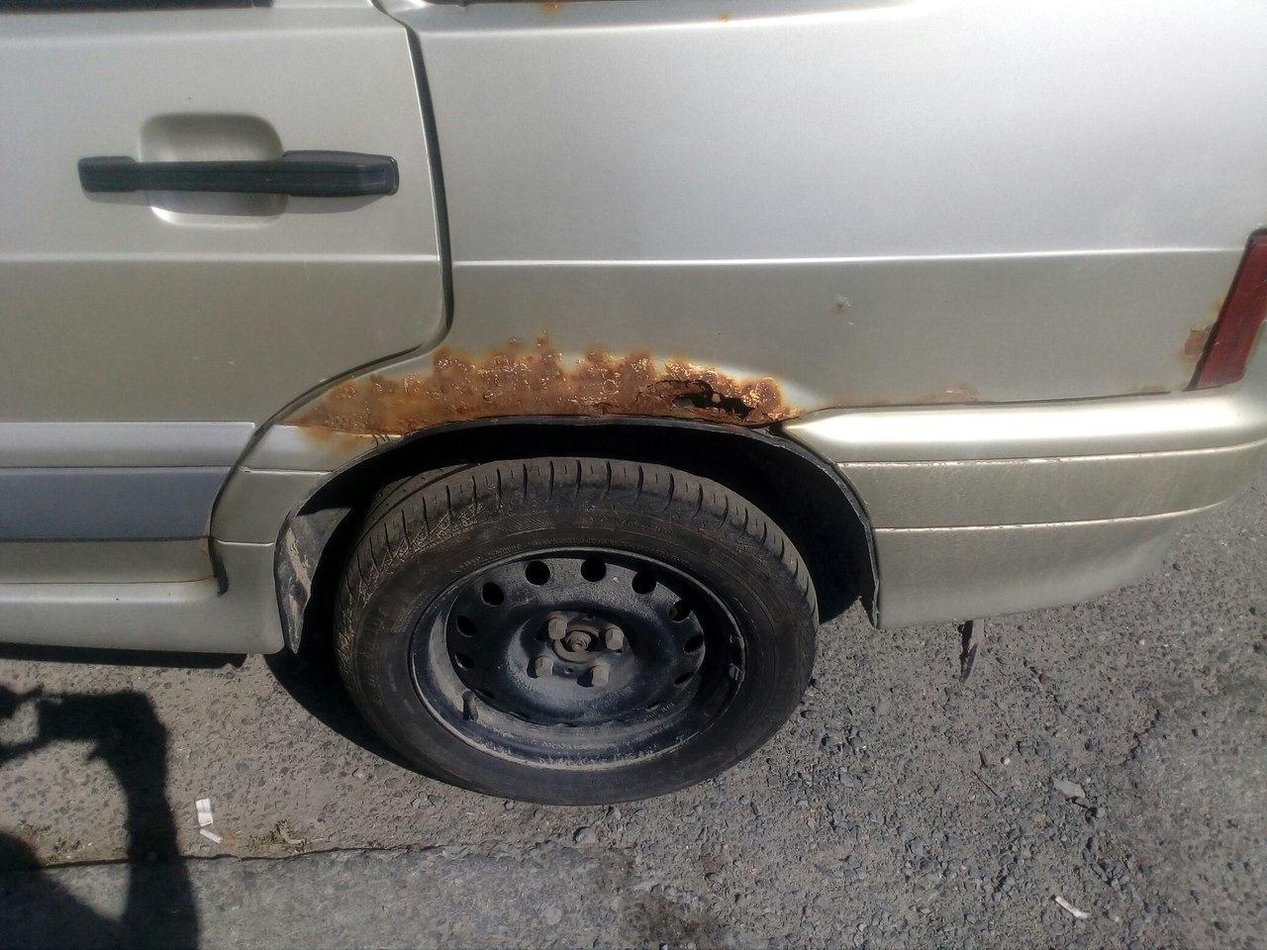corrosion: (280, 332, 823, 467)
